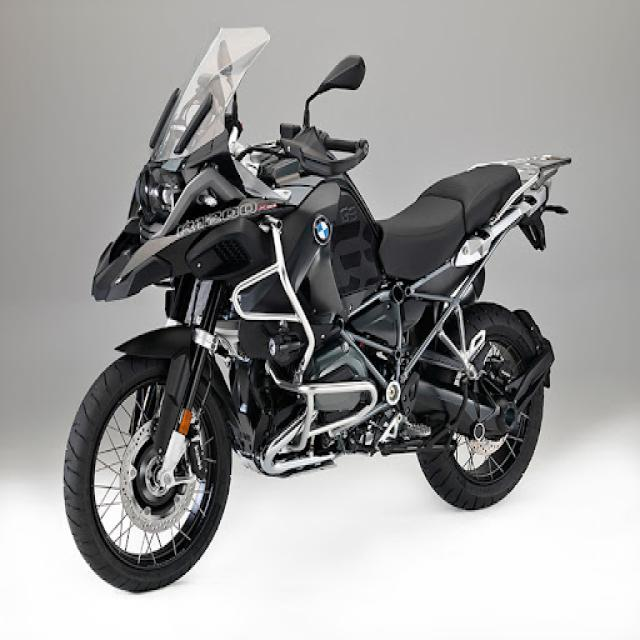bike: (63, 26, 573, 594)
